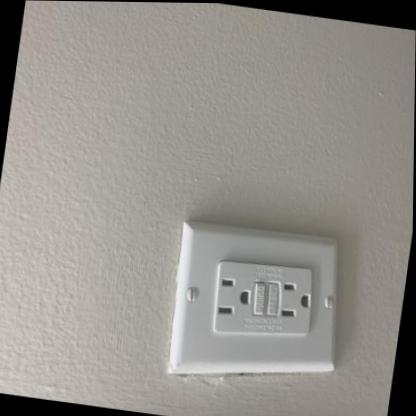OUTLET: (162, 213, 342, 396)
